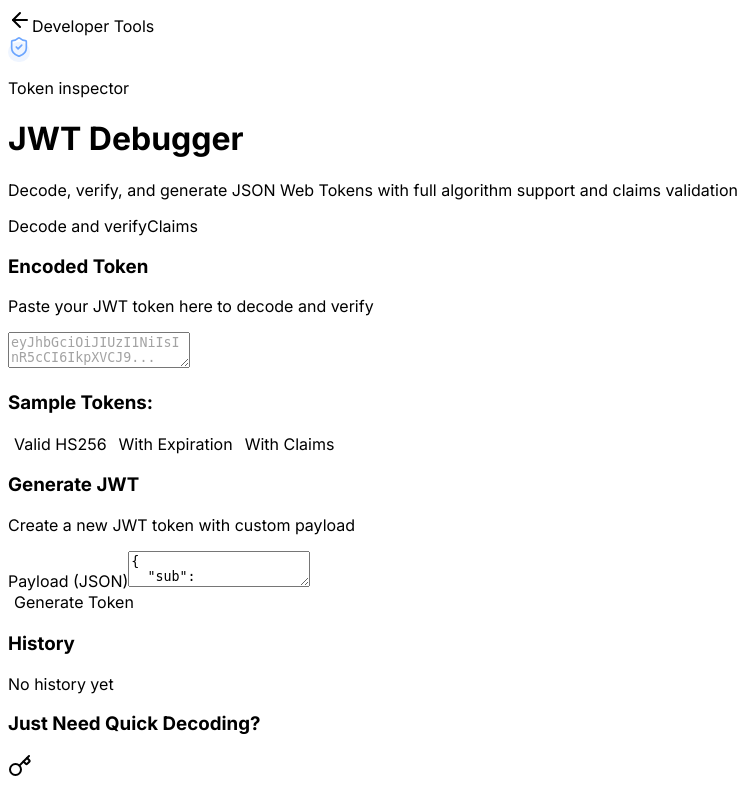
Test: JWTDebuggerPage › Token Input and Decoding › shows verify signature section after entering valid token
Step 1. Type "eyJhbGciOiJIUzI1NiIsInR5cCI6IkpXVCJ9.eyJzdWIiOiIxMjM0NTY3ODkwIiwibmFtZSI6IkpvaG4gRG9lIiwiaWF0IjoxNTE2MjM5MDIyfQ.SflKxwRJSMeKKF2QT4fwpMeJf36POk6yJV_adQssw5c" into the text box with placeholder "eyJhbGciOiJIUzI1NiIsInR5cCI6IkpXVCJ9..." → (99, 350), box [8,332,190,368]
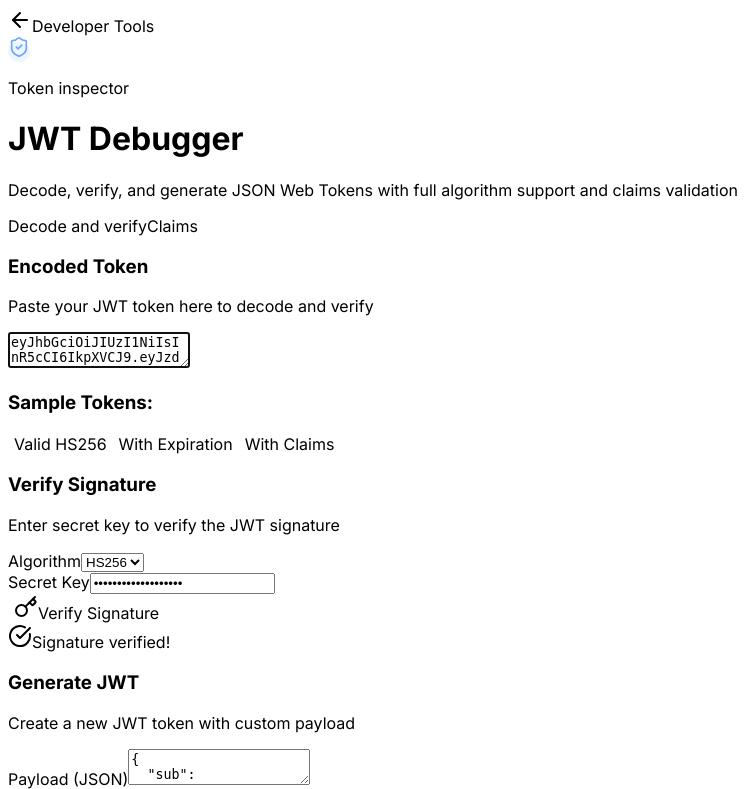
Check: the heading "Verify Signature" is shown, box [8,474,156,496]
